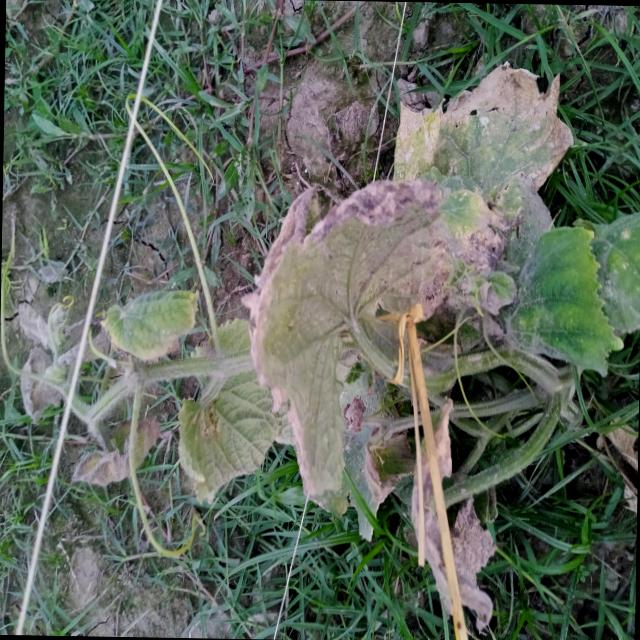cucumber_bacterial: (248, 166, 514, 516), (384, 50, 566, 176), (84, 276, 201, 402), (404, 514, 500, 636)
